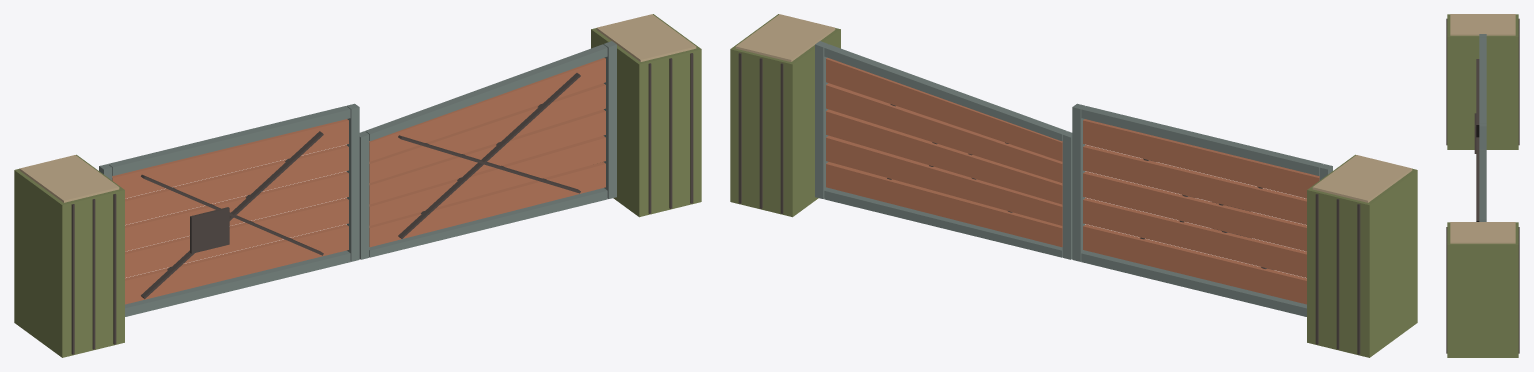
Rendered from SM_PuertaViaDoble_v2_Tablones_e1_Danado_LOD0.fbx.
3 views of the same model, side by side, from view 1: azimuth 30°, elevation 25°; view 2: azimuth 150°, elevation 25°; view 3: azimuth 270°, elevation 25° (orthographic). The views are drawn at different scales.
Parts seen in each view (by area): view 1: Hoja_O, Hoja_E, SM_puerta_via_doble_v9_LOD0; view 2: Hoja_O, Hoja_E, SM_puerta_via_doble_v9_LOD0; view 3: SM_puerta_via_doble_v9_LOD0, Hoja_O, Hoja_E.
Boxes of the visible parts, x1,y1,x2,y2 form: Hoja_O: (99, 103, 359, 316); Hoja_E: (359, 41, 616, 259); SM_puerta_via_doble_v9_LOD0: (14, 14, 701, 357); Hoja_O: (1072, 103, 1332, 316); Hoja_E: (815, 41, 1072, 259); SM_puerta_via_doble_v9_LOD0: (730, 14, 1417, 357); SM_puerta_via_doble_v9_LOD0: (1446, 14, 1519, 357); Hoja_O: (1474, 34, 1486, 169); Hoja_E: (1476, 149, 1486, 221).
Bounding box in the file's own units: 9.2 × 2.16 × 1.24.
